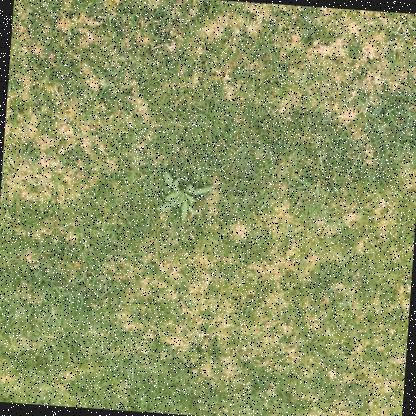Weeds: (156, 170, 215, 223)
